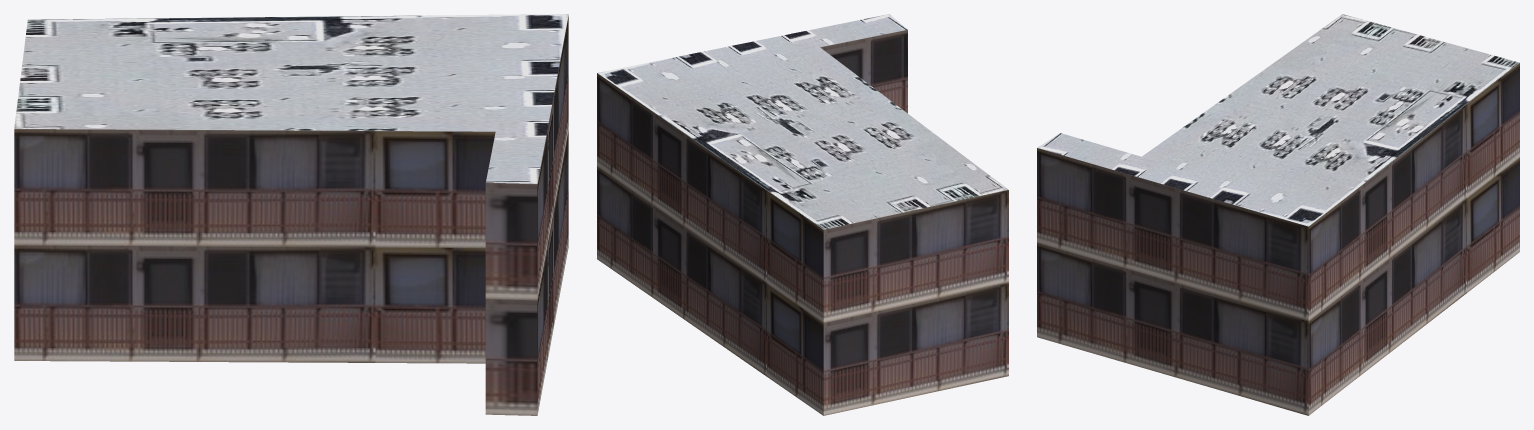
Rendered from ResTex__3299.fbx.
The picture shows the model from 3 angles, left to right: view 1: azimuth 30°, elevation 25°; view 2: azimuth 150°, elevation 25°; view 3: azimuth 270°, elevation 25°; orthographic projection. The views are drawn at different scales.
Visible parts, largest first — view 1: CityEngineMaterial_6_m, CityEngineMaterial_8_m; view 2: CityEngineMaterial_6_m, CityEngineMaterial_8_m; view 3: CityEngineMaterial_6_m, CityEngineMaterial_8_m.
Part boxes in pixels (x1=…): CityEngineMaterial_6_m: x1=14, y1=16, x2=568, y2=415; CityEngineMaterial_8_m: x1=14, y1=14, x2=568, y2=183; CityEngineMaterial_6_m: x1=597, y1=29, x2=1008, y2=415; CityEngineMaterial_8_m: x1=597, y1=14, x2=1008, y2=229; CityEngineMaterial_6_m: x1=1037, y1=63, x2=1519, y2=415; CityEngineMaterial_8_m: x1=1037, y1=14, x2=1519, y2=226.
Size of the model in its own units: 14.44 by 6 by 13.86.
2 materials, 2 textured.
